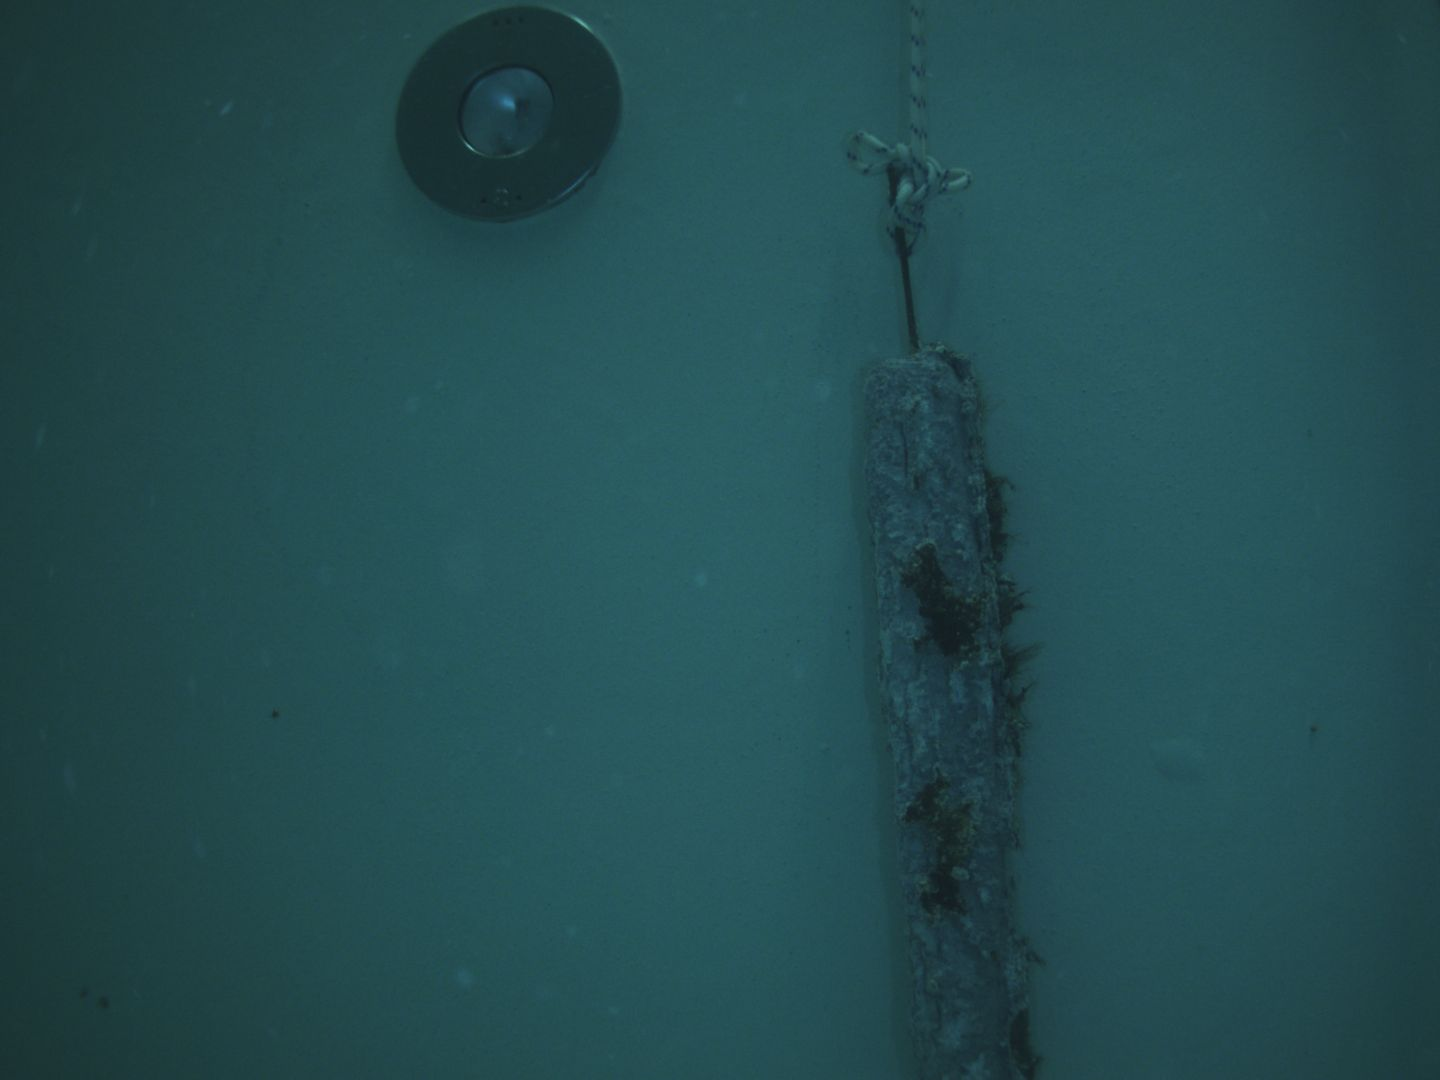anode: (863, 161, 1040, 1080)
